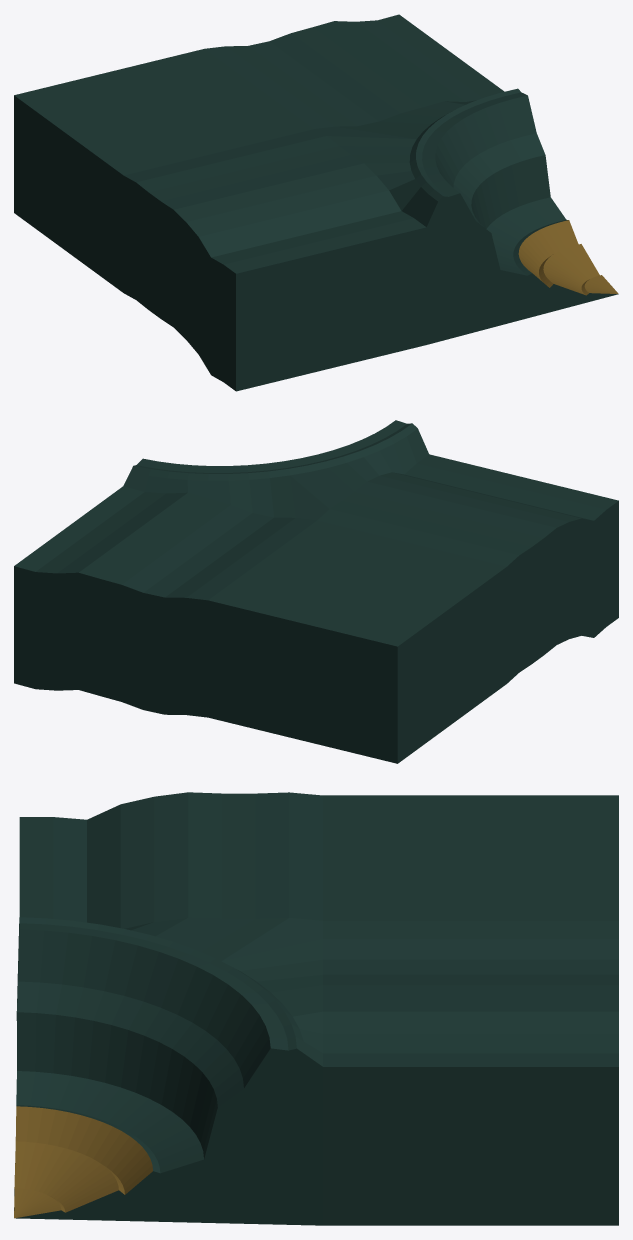
File: Pit Tile Final Corner.fbx
The picture shows the model from 3 angles, top to bottom: view 1: azimuth 30°, elevation 25°; view 2: azimuth 150°, elevation 25°; view 3: azimuth 270°, elevation 25°; orthographic projection. The views are drawn at different scales.
Visible parts, largest first — view 1: Corner Pit Tile; view 2: Corner Pit Tile; view 3: Corner Pit Tile.
Part boxes in pixels (box(x1,y1,x2,y2)): Corner Pit Tile: box(14, 14, 618, 391); Corner Pit Tile: box(14, 420, 618, 763); Corner Pit Tile: box(14, 792, 618, 1225).
Size of the model in its own units: 198 by 71.95 by 199.
